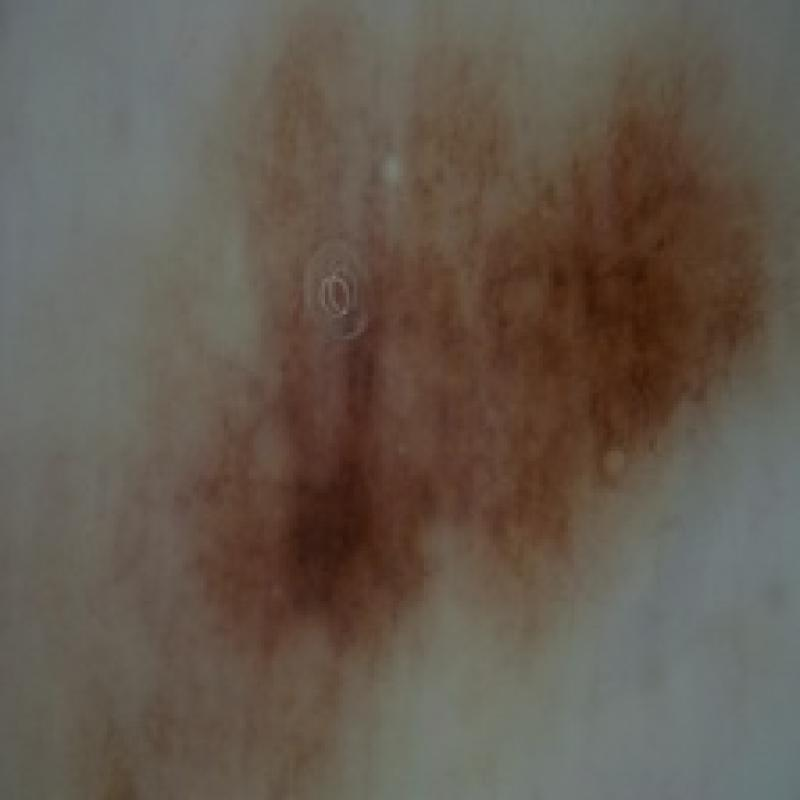malignant: (105, 28, 772, 740)
